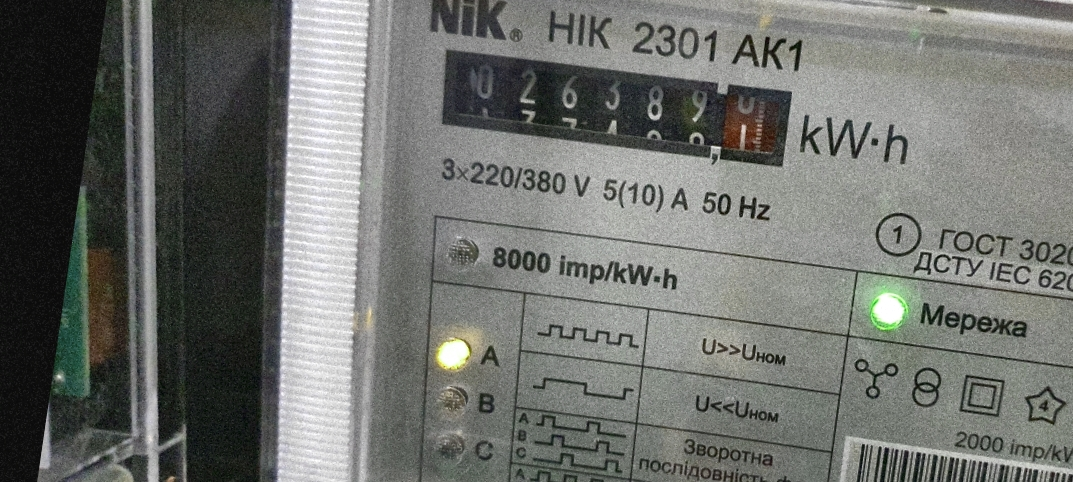0: (470, 59, 499, 102), (734, 93, 756, 116)
1: (734, 120, 751, 152)
2: (514, 65, 543, 107)
3: (601, 77, 623, 113)
6: (558, 70, 581, 112)
8: (642, 82, 668, 123)
9: (686, 88, 709, 124)
screen: (420, 28, 810, 187)
